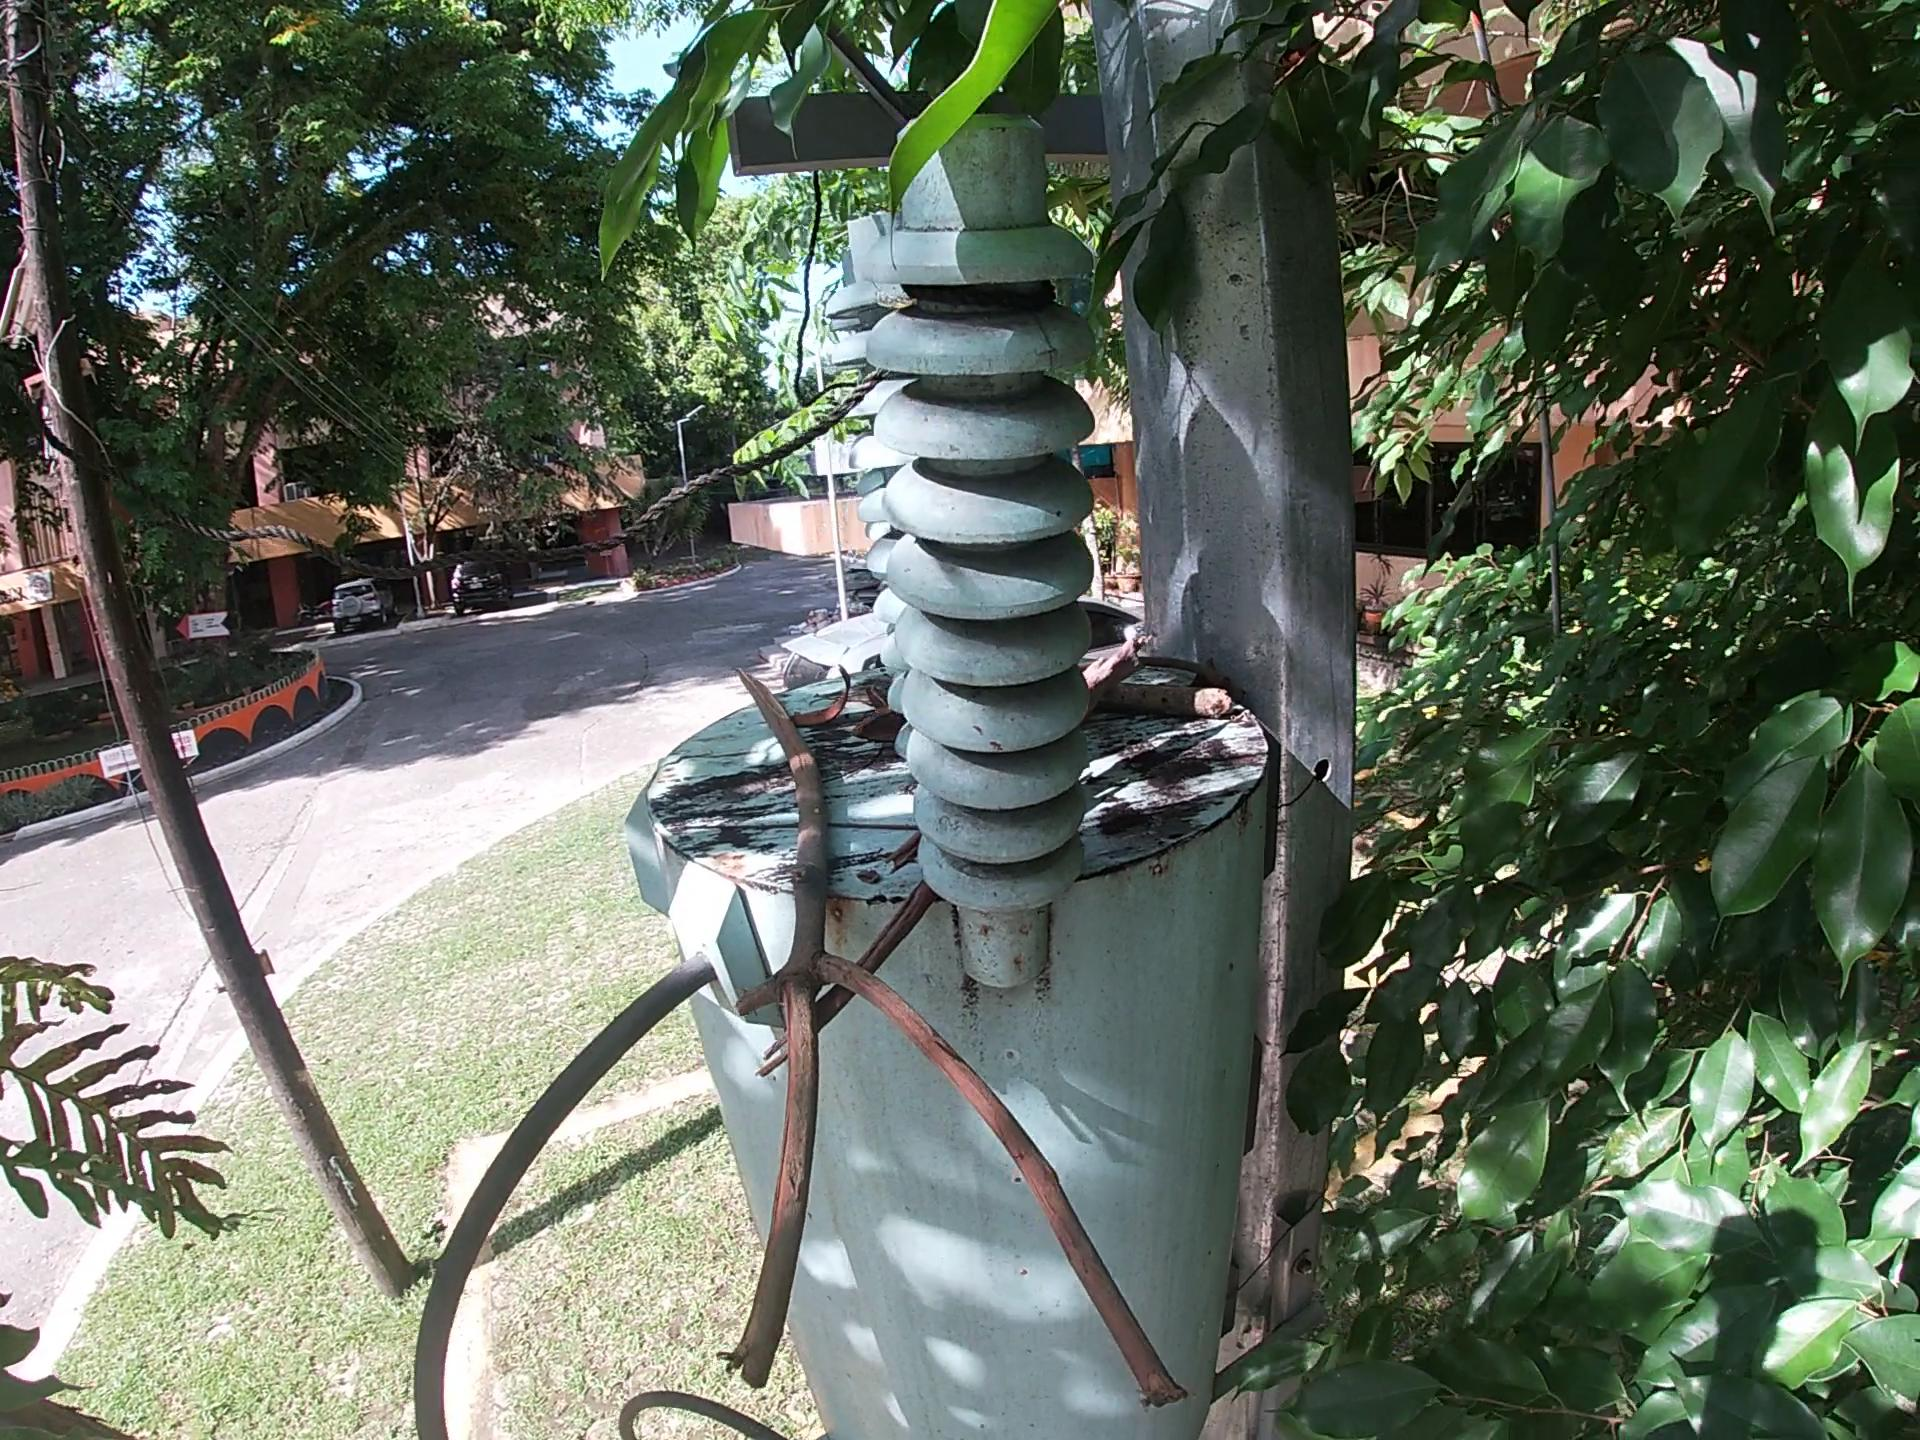mahogany fruit: (788, 661, 859, 732), (851, 703, 912, 750)
tree branch: (692, 656, 1203, 1419), (751, 879, 945, 1089), (1092, 679, 1240, 722), (1135, 641, 1249, 693), (1076, 634, 1150, 709)
